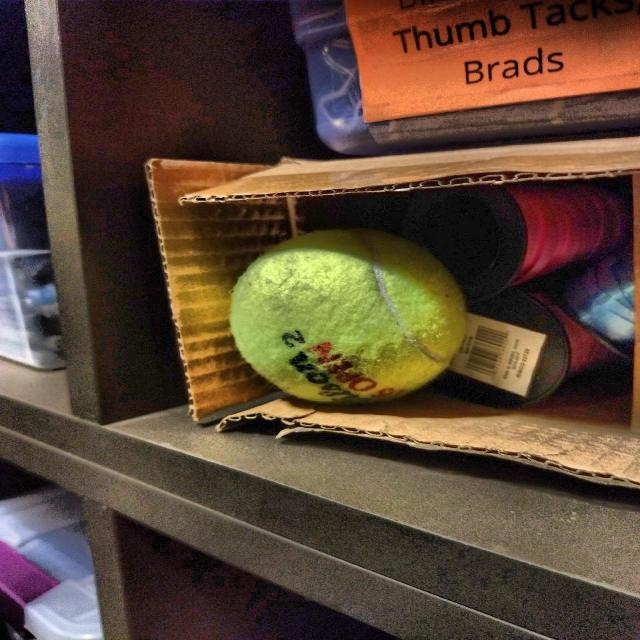tennis-ball: (223, 237, 475, 401)
